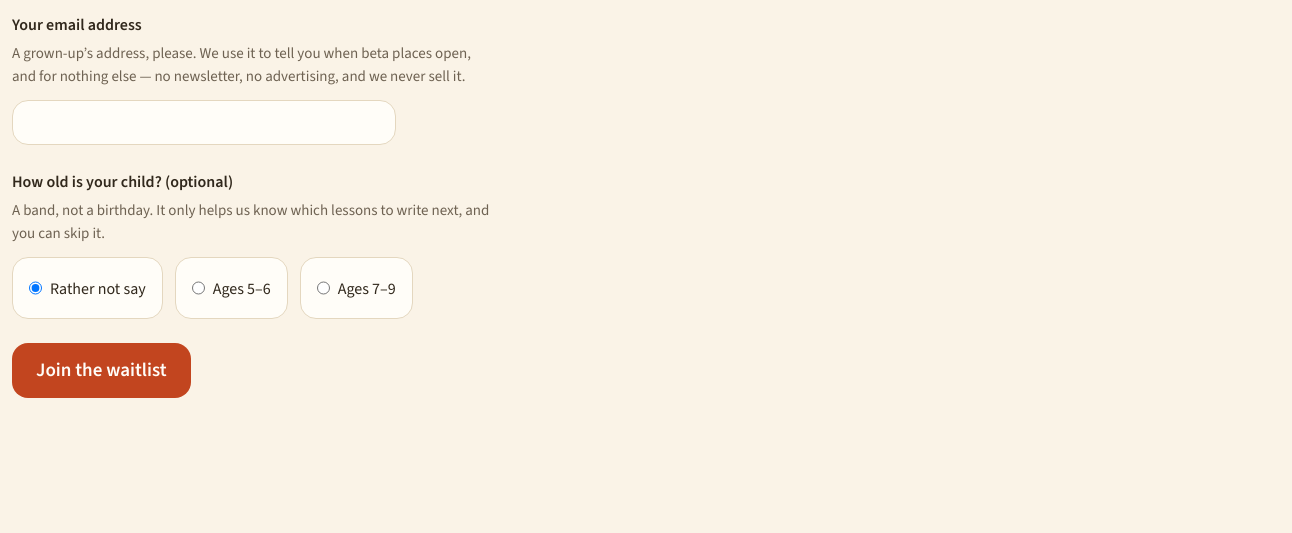
Test: WaitlistForm › does not send a malformed address
In the field labelled "Your email address": (204, 123) [12,100,396,145], type "not-email"
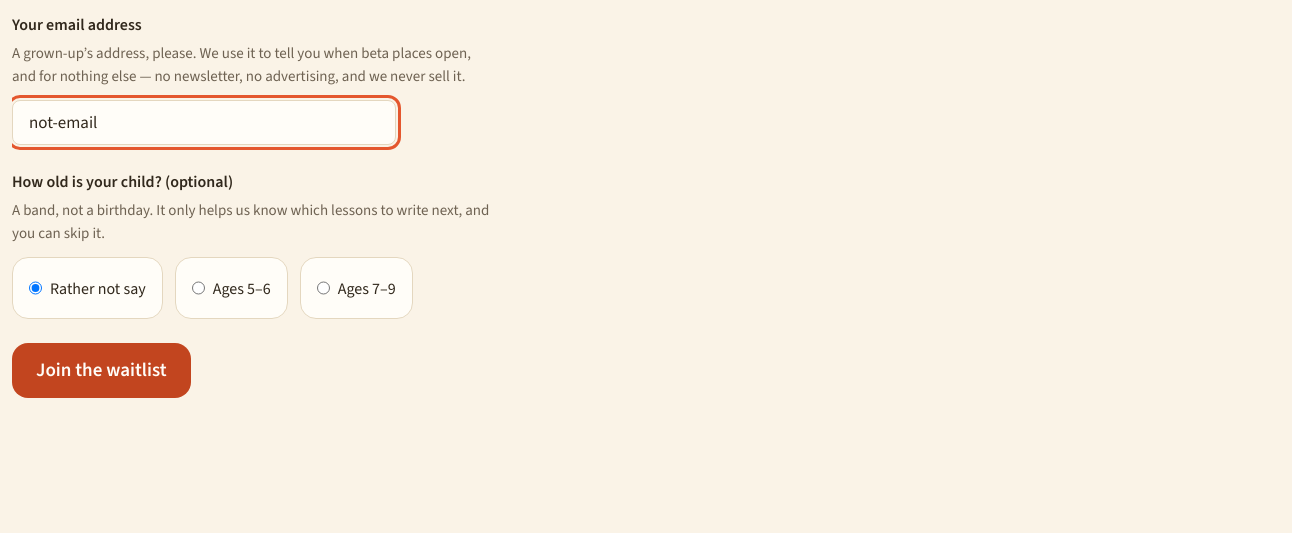
Click the button "Join the waitlist": click(101, 371) [12,343,191,398]
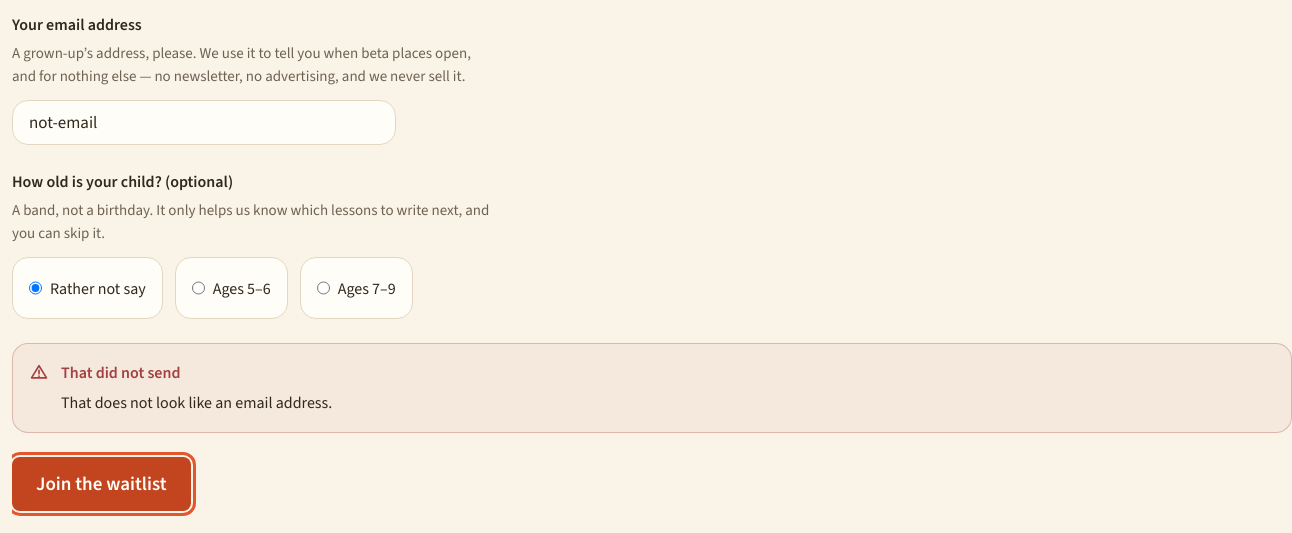
Check: the message shows "does not look like an email address", box [61,392,332,413]
